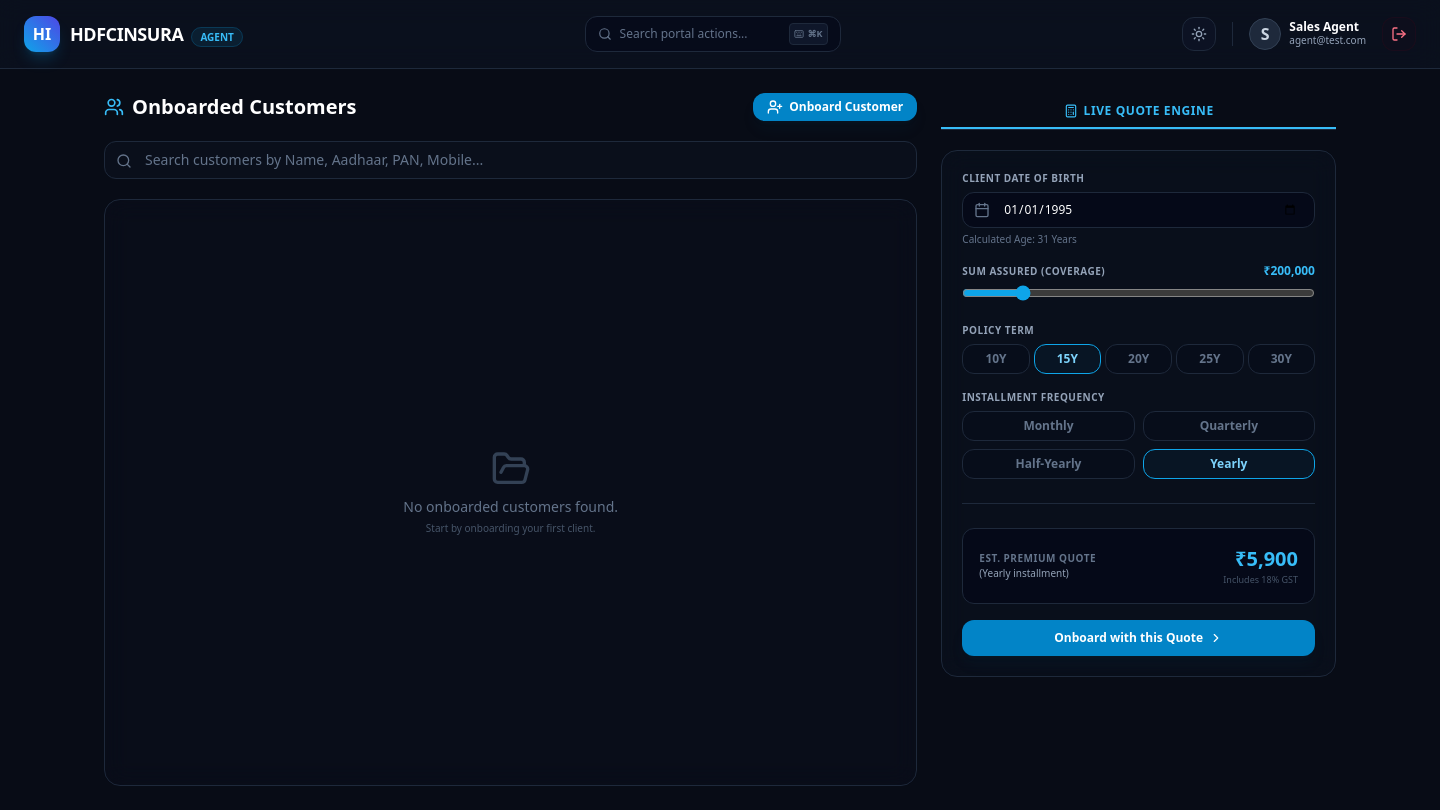
Scenario: Live Premium Calculator Widget › updates quote display when premium frequency changes
// Change frequency to Monthly
Click the button "Monthly": {"x": 1048, "y": 426} [962,411,1135,441]
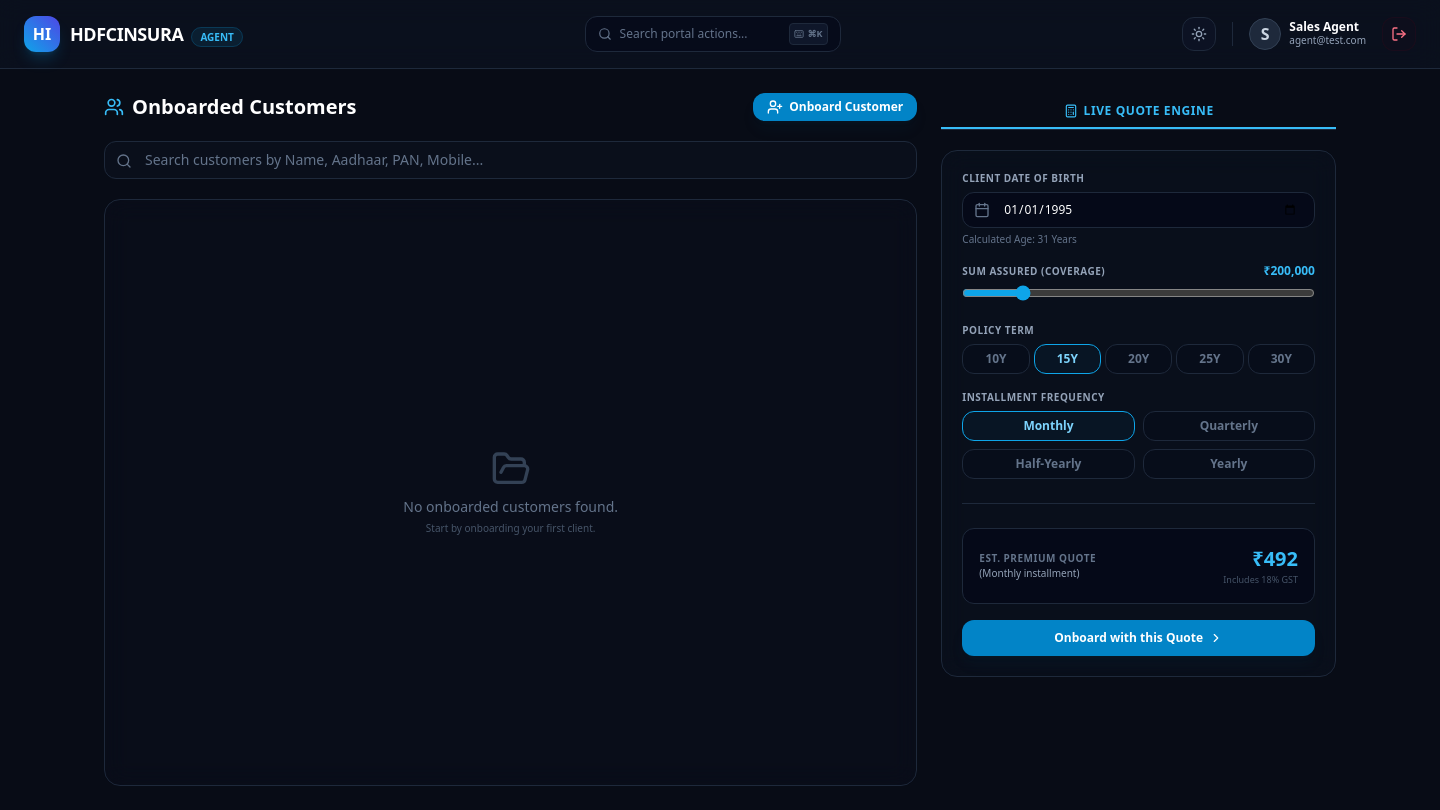
Expected: the text "₹492" is shown, [1252,545,1298,572]
